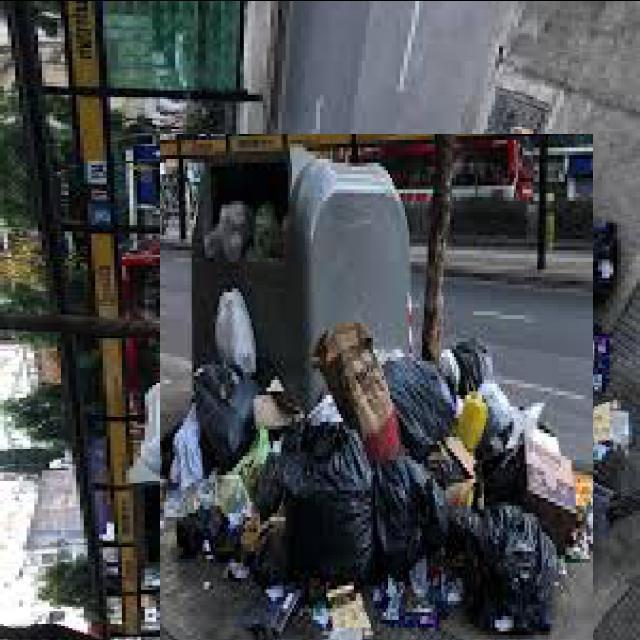Trashbag: (261, 420, 374, 562), (470, 518, 570, 636), (368, 466, 442, 576), (194, 366, 274, 453), (383, 357, 456, 438), (457, 333, 501, 395)
